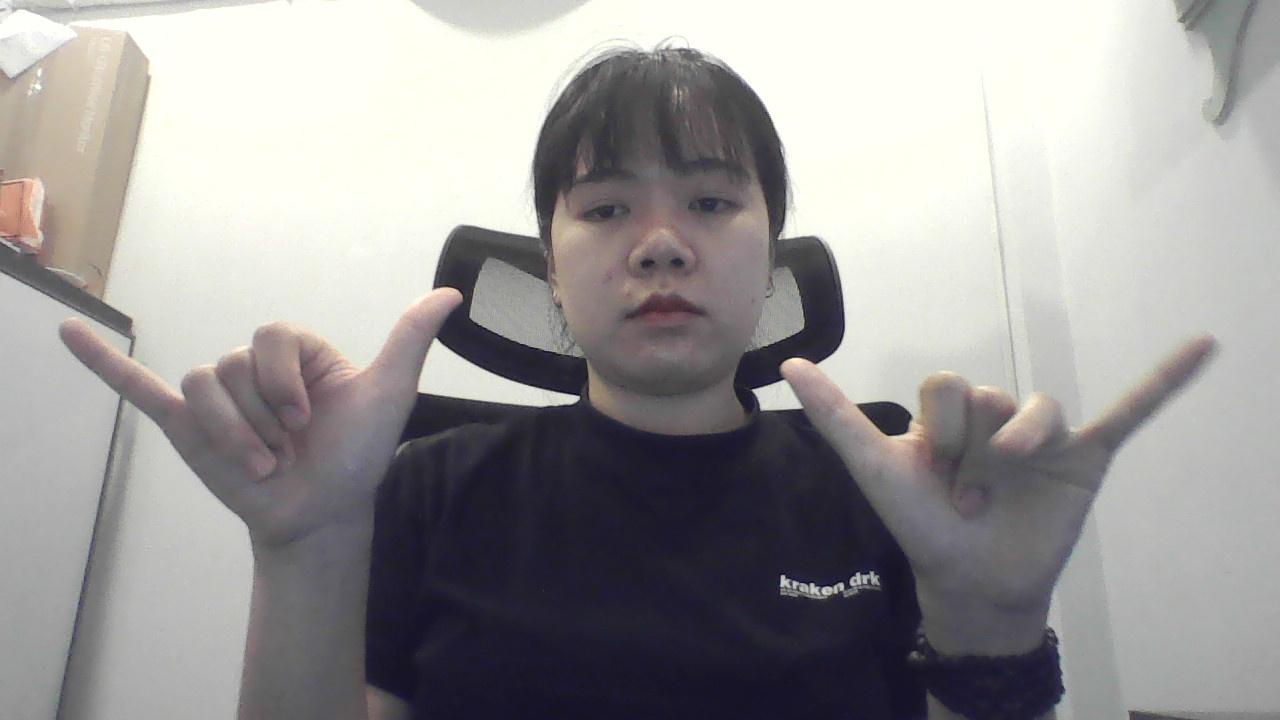Y: (44, 277, 495, 558), (772, 321, 1245, 576)
